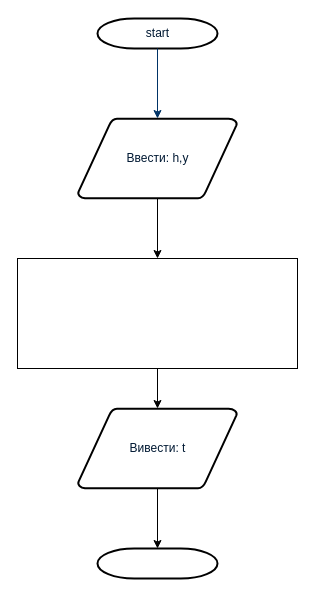
This 315x596 diagram has some shape labels left out. Here are the shapes that lost their labels. From the top down, the centre of each, then its label:
point 157,313: t=(0.355*(h^2)-4.355)/(exp(y+h)+sqrt(2.7*y));
point 157,563: end
